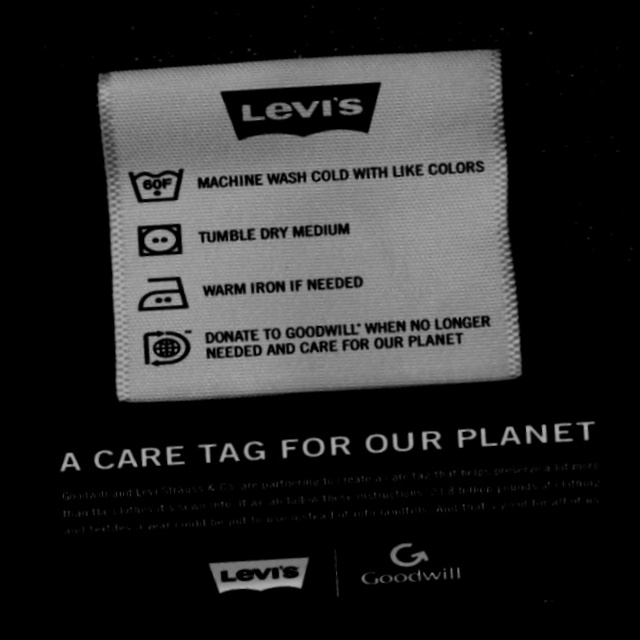30C: (116, 147, 200, 221)
iron_medium: (124, 258, 204, 329)
tumble_dry_medium: (123, 209, 197, 274)
